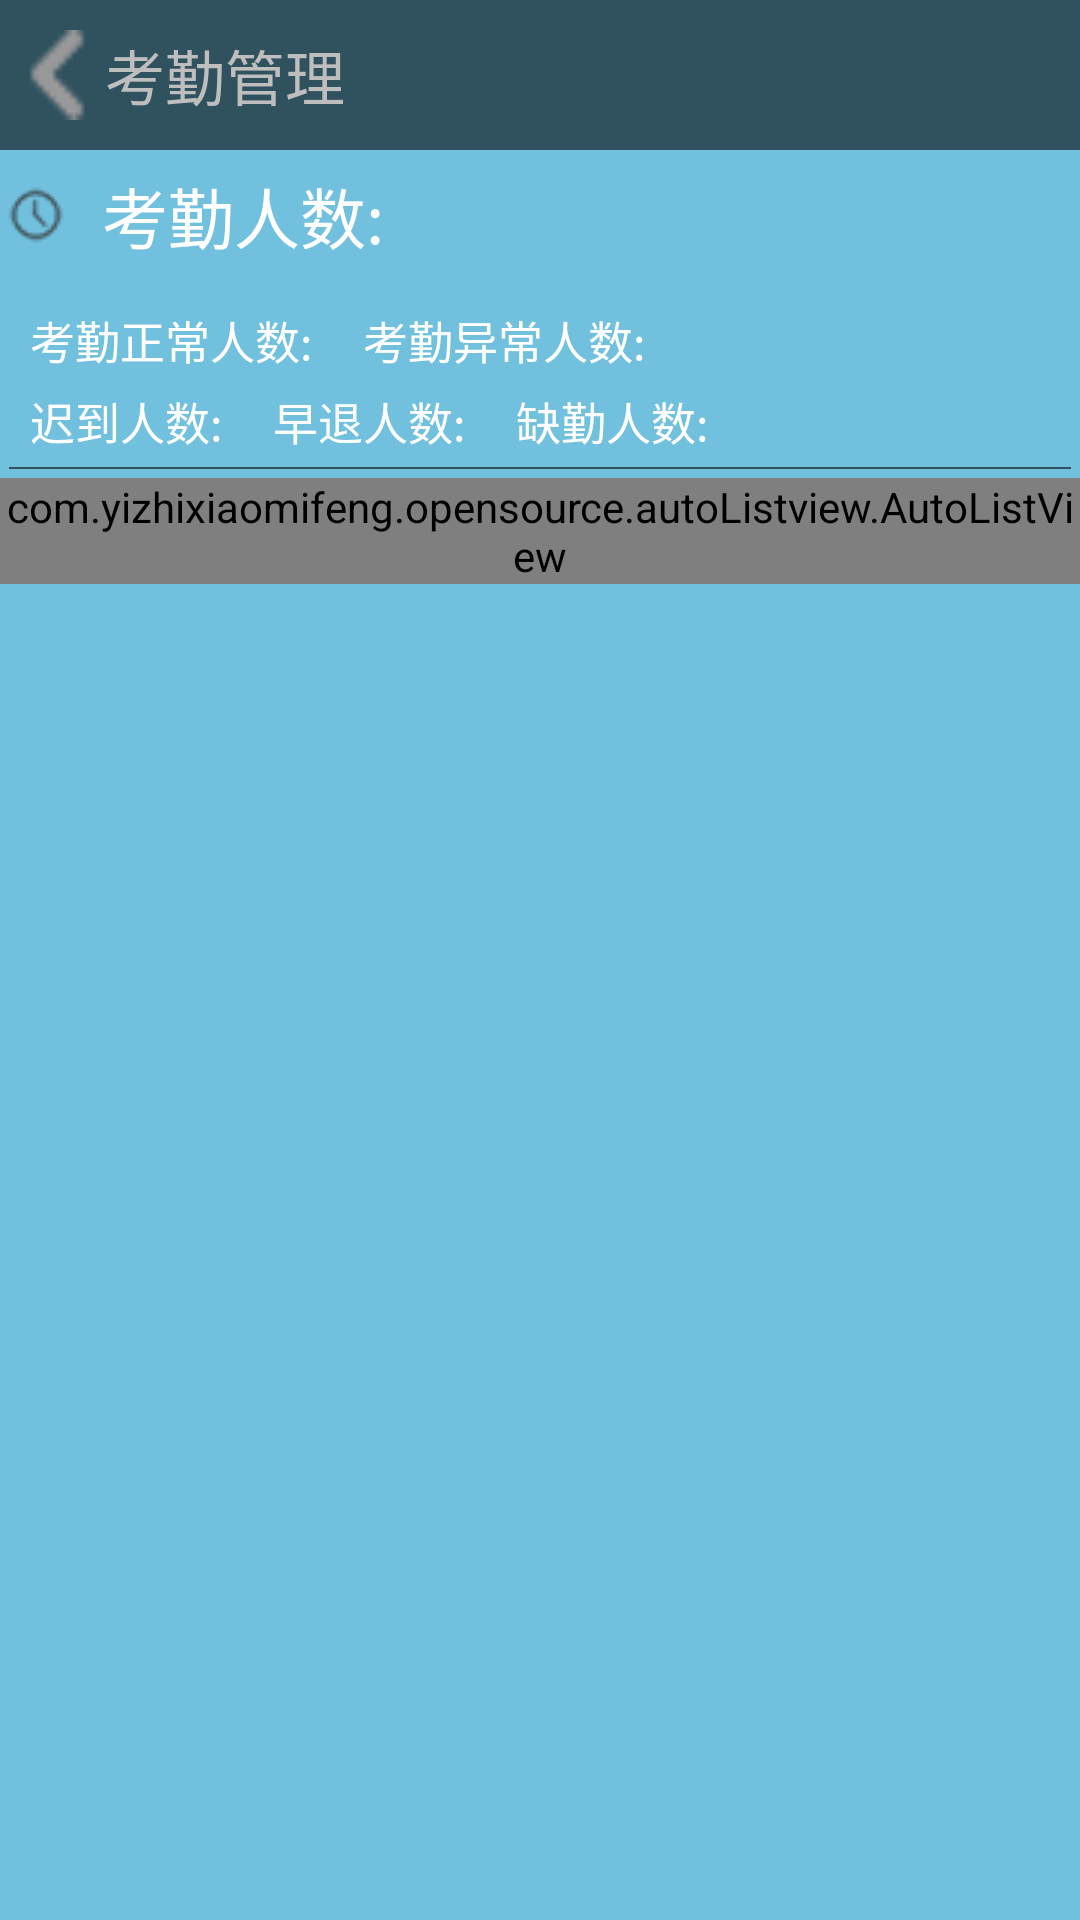

Screen size 1080×1920. Icon name, then its box in pixels as (x1, y1, x2, y2):
left: (31, 30, 84, 120)
